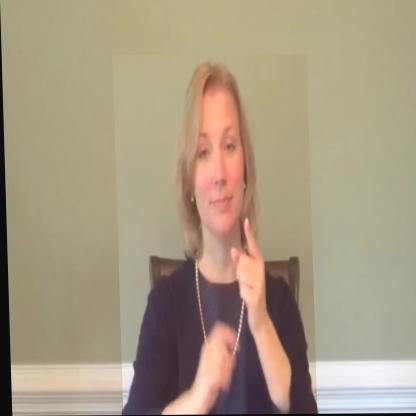NiceToMeetYou: (112, 54, 315, 415)
